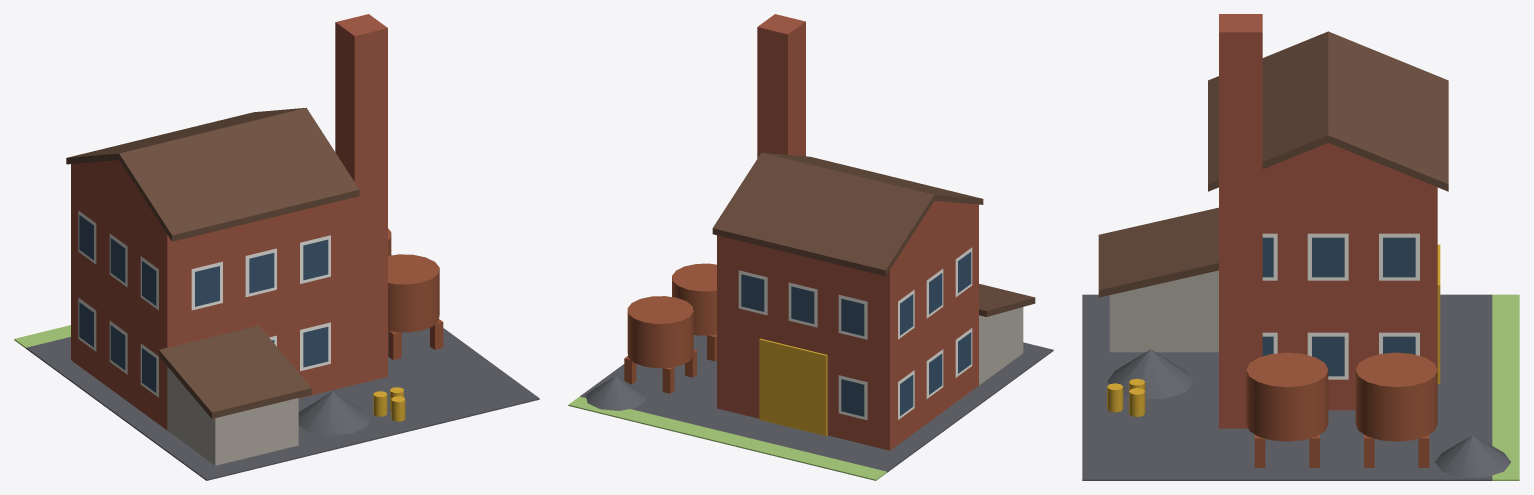
3 renders of one model, left to right at view 1: azimuth 30°, elevation 25°; view 2: azimuth 150°, elevation 25°; view 3: azimuth 270°, elevation 25°, orthographic. The views are drawn at different scales.
Parts seen in each view (by area): view 1: wall, roof (×3), asphalt, smoke_stack, coal_shed, window_glass (×6), tank, heap, gable, lawn; view 2: wall, roof (×3), asphalt, tank (×2), smoke_stack, garage_door, lawn, window_glass (×4), coal_shed, gable, heap; view 3: asphalt, roof (×3), wall, smoke_stack, tank (×2), coal_shed, gable (×2), lawn, window_glass (×5), heap (×2), window_frame (×3), drum (×2) (+1 smaller).
Boxes of the visible parts, left/top/right/bottom form: wall: left=71, top=164, right=354, bottom=430; roof (×3): left=66, top=108, right=359, bottom=418; asphalt: left=26, top=327, right=539, bottom=480; smoke_stack: left=335, top=14, right=387, bottom=384; coal_shed: left=167, top=376, right=298, bottom=465; window_glass (×6): left=110, top=238, right=328, bottom=369; tank: left=388, top=254, right=439, bottom=332; heap: left=298, top=391, right=370, bottom=435; gable: left=71, top=160, right=166, bottom=233; lawn: left=14, top=325, right=70, bottom=348; wall: left=717, top=205, right=978, bottom=450; roof (×3): left=712, top=152, right=1035, bottom=316; asphalt: left=580, top=335, right=1053, bottom=472; tank (×2): left=627, top=263, right=716, bottom=368; smoke_stack: left=757, top=14, right=805, bottom=158; garage_door: left=759, top=338, right=827, bottom=436; lawn: left=568, top=396, right=886, bottom=480; window_glass (×4): left=741, top=274, right=864, bottom=416; coal_shed: left=979, top=307, right=1023, bottom=385; gable: left=890, top=201, right=978, bottom=269; heap: left=585, top=376, right=646, bottom=410; asphalt: left=1082, top=294, right=1492, bottom=480; roof (×3): left=1098, top=31, right=1448, bottom=297; wall: left=1262, top=187, right=1437, bottom=410; smoke_stack: left=1219, top=14, right=1262, bottom=428; tank (×2): left=1246, top=352, right=1437, bottom=441; coal_shed: left=1109, top=290, right=1218, bottom=352; gable (×2): left=1130, top=143, right=1436, bottom=290; lawn: left=1492, top=294, right=1519, bottom=480; window_glass (×5): left=1262, top=237, right=1415, bottom=376; heap (×2): left=1107, top=349, right=1510, bottom=477; window_frame (×3): left=1307, top=233, right=1419, bottom=379; drum (×2): left=1107, top=383, right=1145, bottom=416.
Size of the model in its own units: 16 by 16.06 by 16.
